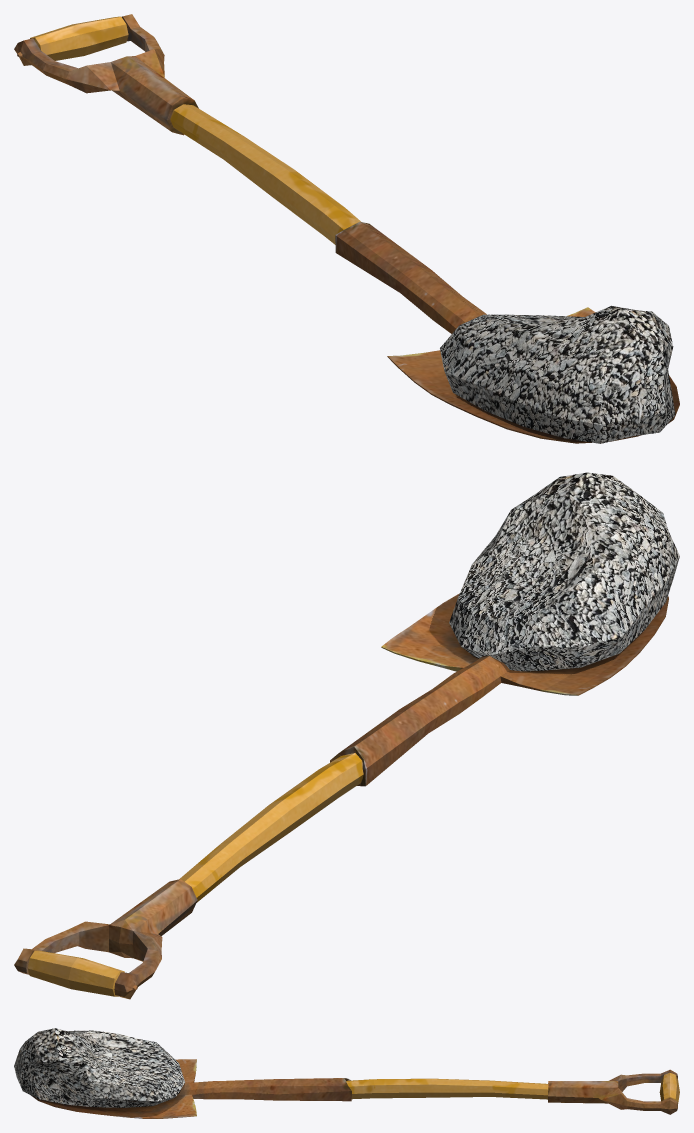
The picture shows the model from 3 angles, top to bottom: view 1: azimuth 30°, elevation 25°; view 2: azimuth 150°, elevation 25°; view 3: azimuth 270°, elevation 25°; orthographic projection. The views are drawn at different scales.
Visible parts, largest first — view 1: wood, dirt; view 2: dirt, wood; view 3: wood, dirt.
Boxes of the visible parts, x1=… form: wood: x1=14, y1=14, x2=679, y2=443; dirt: x1=440, y1=305, x2=675, y2=443; dirt: x1=449, y1=472, x2=679, y2=671; wood: x1=14, y1=593, x2=668, y2=999; wood: x1=31, y1=1059, x2=679, y2=1118; dirt: x1=14, y1=1028, x2=185, y2=1107.
Bounding box in the file's own units: 0.3955 × 0.2513 × 1.92.
Materials: 2 (2 with a texture image).
